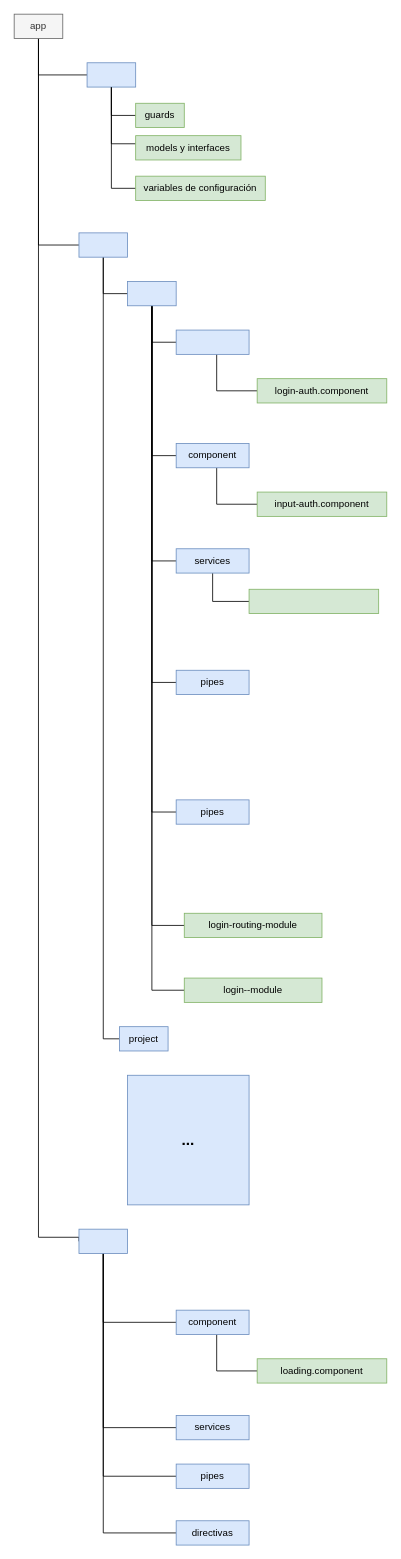
Image size: 401x1559. Some labels were removed from this diagram. The shapes that lost their labels are listed below. From the top down, each one's box as (x1, y1, x2, y2) in pixels, then its label:
(86, 62, 136, 87): core
(78, 232, 128, 257): modules
(127, 281, 176, 306): login
(175, 329, 249, 354): pages
(248, 588, 379, 614): servive-login
(78, 1228, 128, 1253): shared
